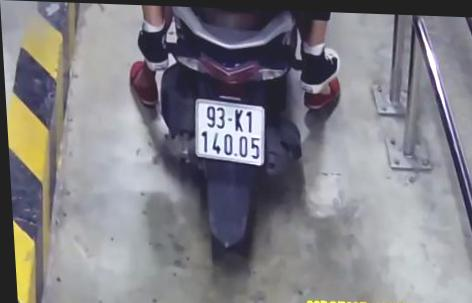License_Plate: (186, 91, 270, 173)
